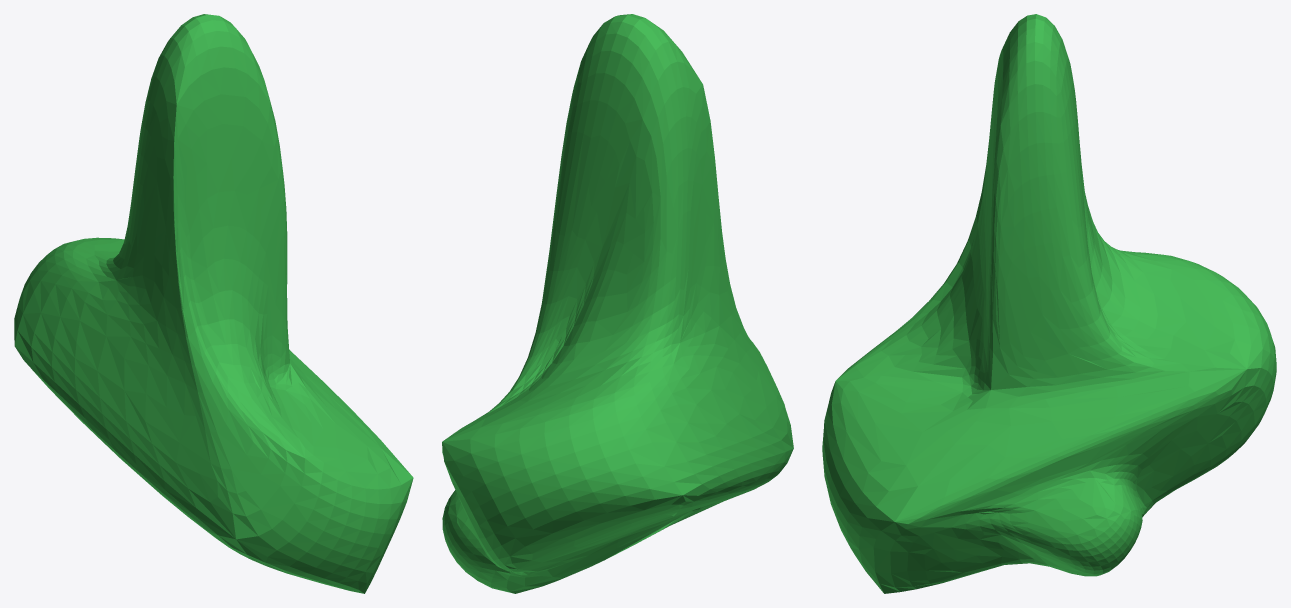
3 views of the same model, side by side, from view 1: azimuth 30°, elevation 25°; view 2: azimuth 150°, elevation 25°; view 3: azimuth 270°, elevation 25° (orthographic). The views are drawn at different scales.
Visible parts, largest first — view 1: 028_Cube.121; view 2: 028_Cube.121; view 3: 028_Cube.121.
Boxes of the visible parts, box(x1,y1,x2,y2) form: 028_Cube.121: box(14, 14, 413, 593); 028_Cube.121: box(442, 14, 793, 593); 028_Cube.121: box(822, 14, 1276, 593).
Size of the model in its own units: 7.03 by 14.15 by 10.86.
